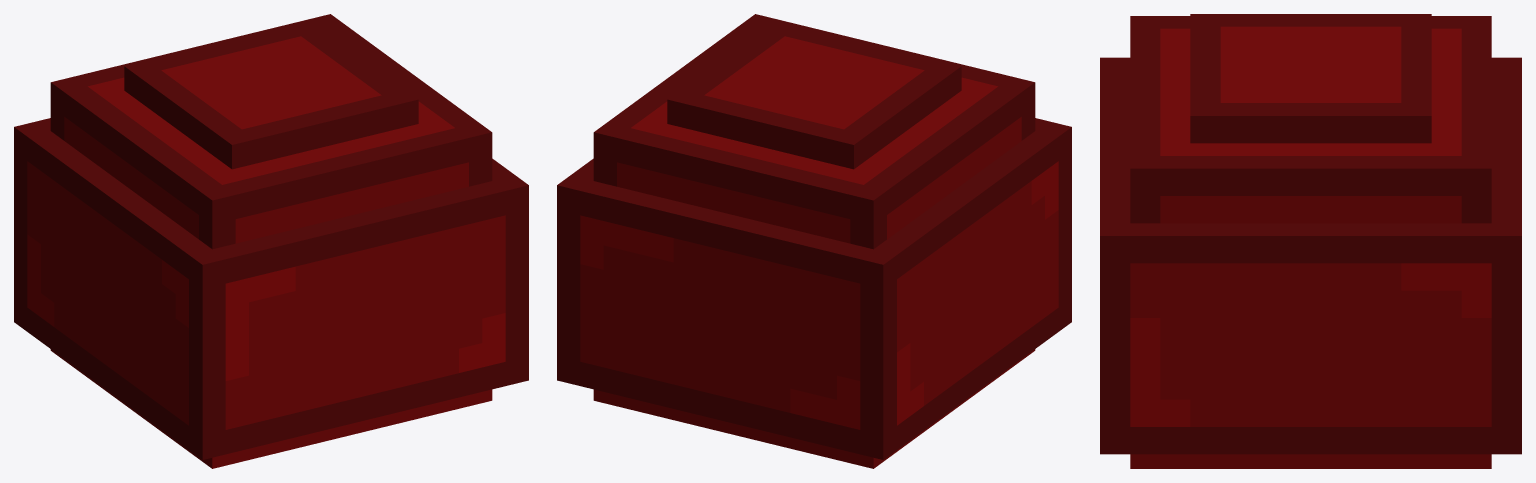
The model's file is Roasted Apple.fbx.
3 renders of one model, left to right at view 1: azimuth 30°, elevation 25°; view 2: azimuth 150°, elevation 25°; view 3: azimuth 270°, elevation 25°, orthographic. The views are drawn at different scales.
Parts seen in each view (by area): view 1: Roasted Apple; view 2: Roasted Apple; view 3: Roasted Apple.
Boxes of the visible parts, left/top/right/bottom form: Roasted Apple: left=14, top=14, right=528, bottom=468; Roasted Apple: left=557, top=14, right=1071, bottom=468; Roasted Apple: left=1100, top=14, right=1521, bottom=468.
Bounding box in the file's own units: 0.28 × 0.28 × 0.24.
Materials: 1 (1 with a texture image).
